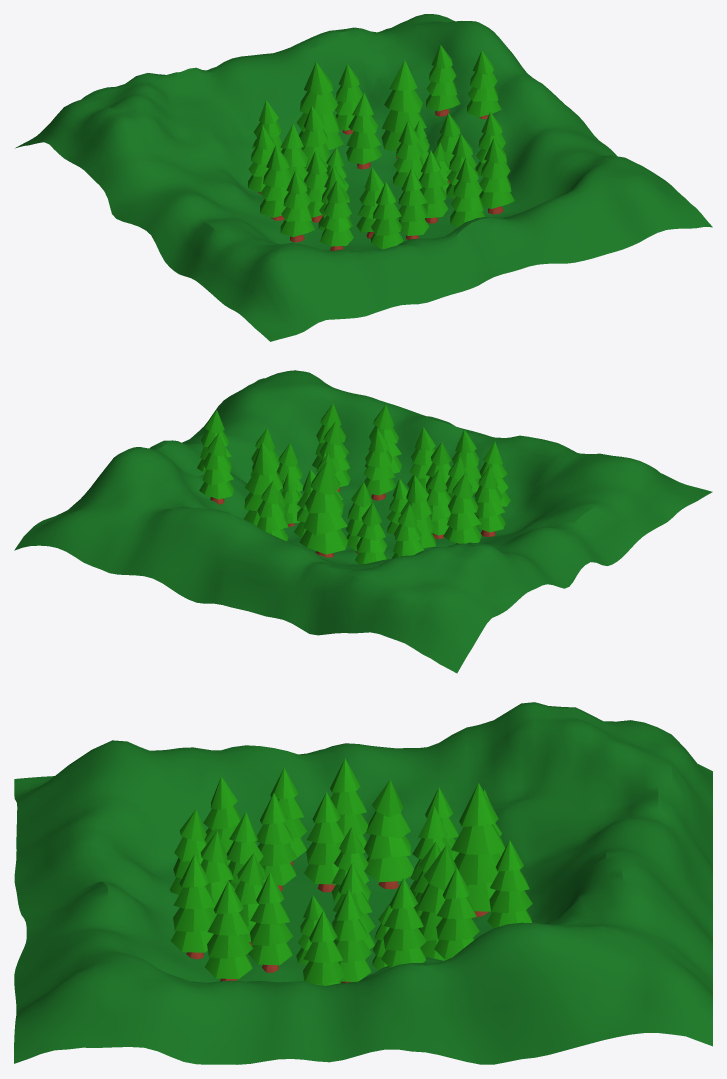
File: Datarannew.fbx
The picture shows the model from 3 angles, top to bottom: view 1: azimuth 30°, elevation 25°; view 2: azimuth 150°, elevation 25°; view 3: azimuth 270°, elevation 25°; orthographic projection. The views are drawn at different scales.
Visible parts, largest first — view 1: Dataran, Pohon; view 2: Dataran, Pohon; view 3: Dataran, Pohon.
Part boxes in pixels (left/top/right/bottom): Dataran: left=15, top=14, right=712, bottom=341; Pohon: left=248, top=45, right=514, bottom=250; Dataran: left=14, top=370, right=712, bottom=673; Pohon: left=197, top=403, right=510, bottom=564; Dataran: left=14, top=702, right=712, bottom=1064; Pohon: left=169, top=758, right=532, bottom=985.
Bounding box in the file's own units: 67871 × 15507 × 67141.
